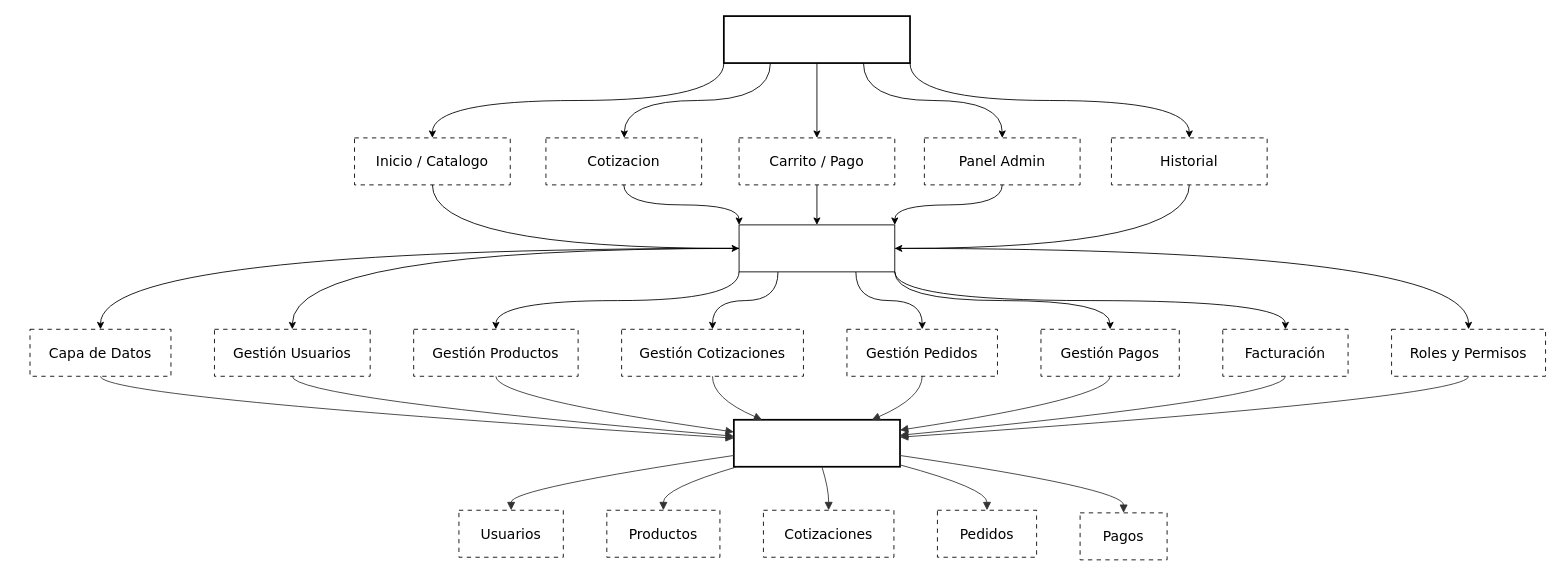
The diagram is 1561 pixels wide and 575 high, and some of its shapes have lost their labels. Here are the shapes that lost their labels. From the top down, the centre of each, then its label:
At (x=816, y=39): "Capa de Presentación".
At (x=816, y=248): "Capa de Negocio".
At (x=816, y=442): "Repositorio MySQL".
